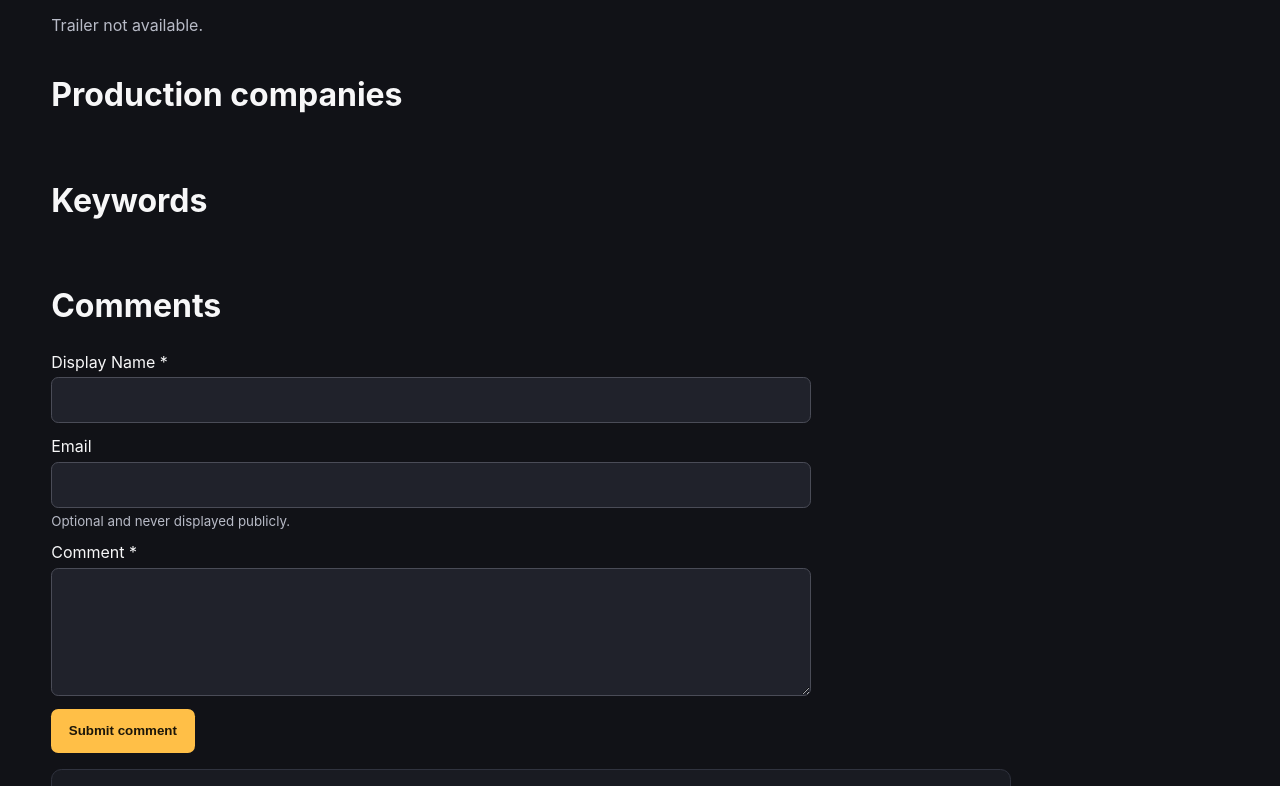
Test case: shows a clean no-trailer state and treats submitted comment HTML as text
(page scrolled)
expect the text "Trailer not available." is shown: met, box x1=51 y1=15 x2=203 y2=35
Type "Viewer" into the field labelled "Display Name *" at (431, 400), box x1=51 y1=377 x2=811 y2=423
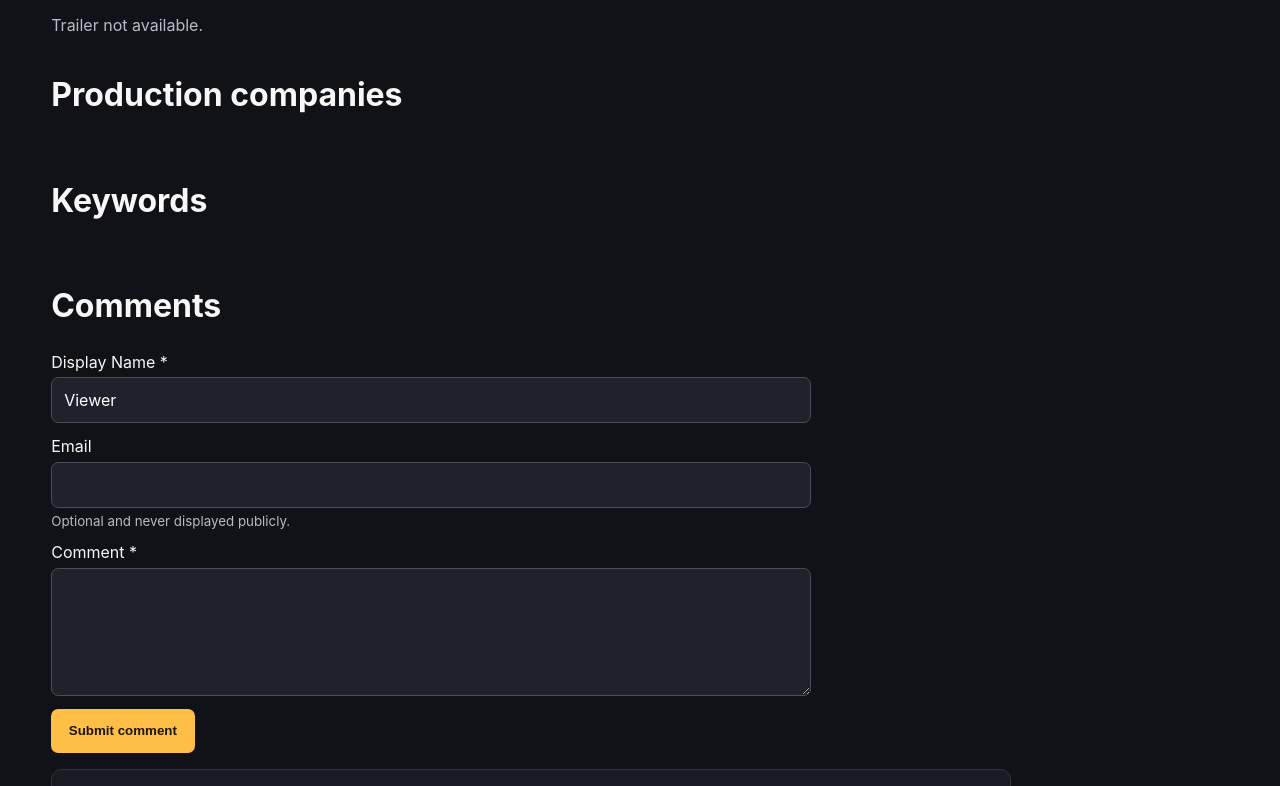
Type "Loved it" into the text box labelled "Comment *" at (431, 632), box x1=51 y1=568 x2=811 y2=696
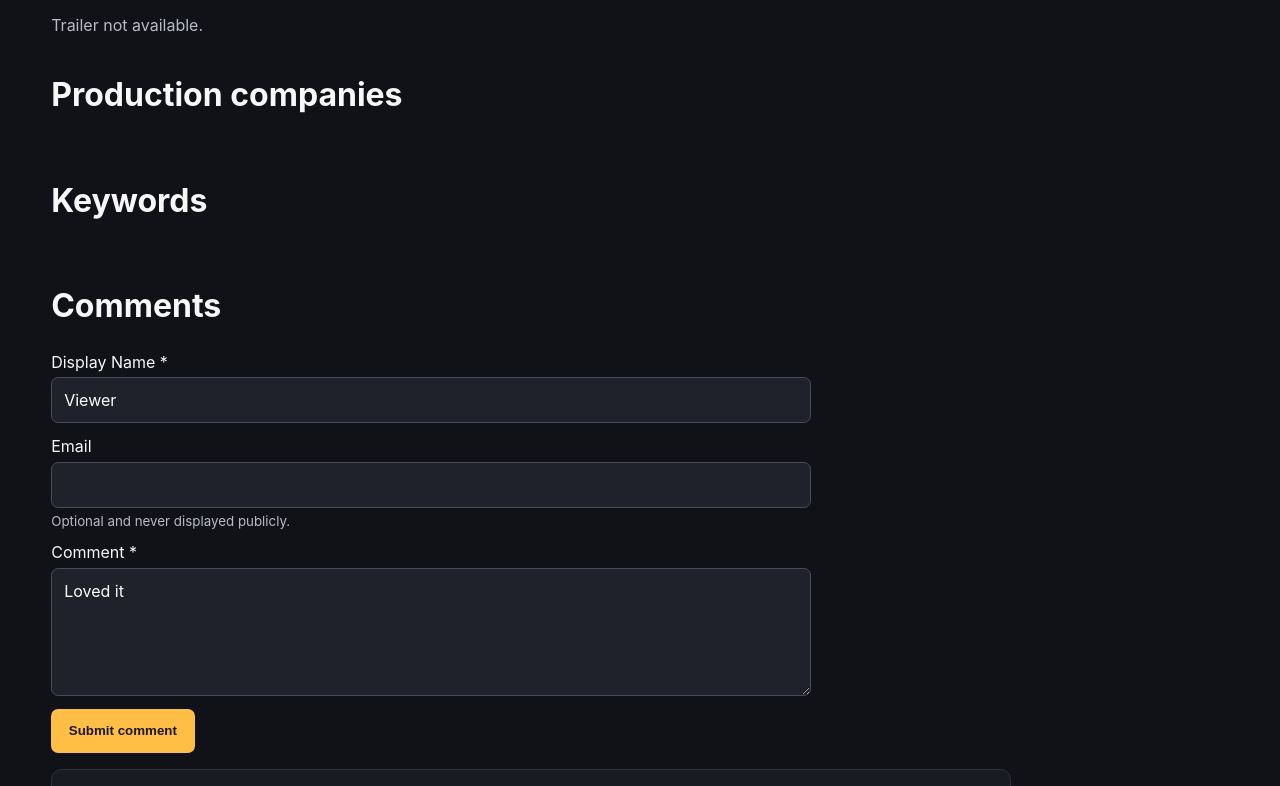
Click the button "Submit comment" at (123, 730), box x1=51 y1=708 x2=194 y2=752
(page scrolled)
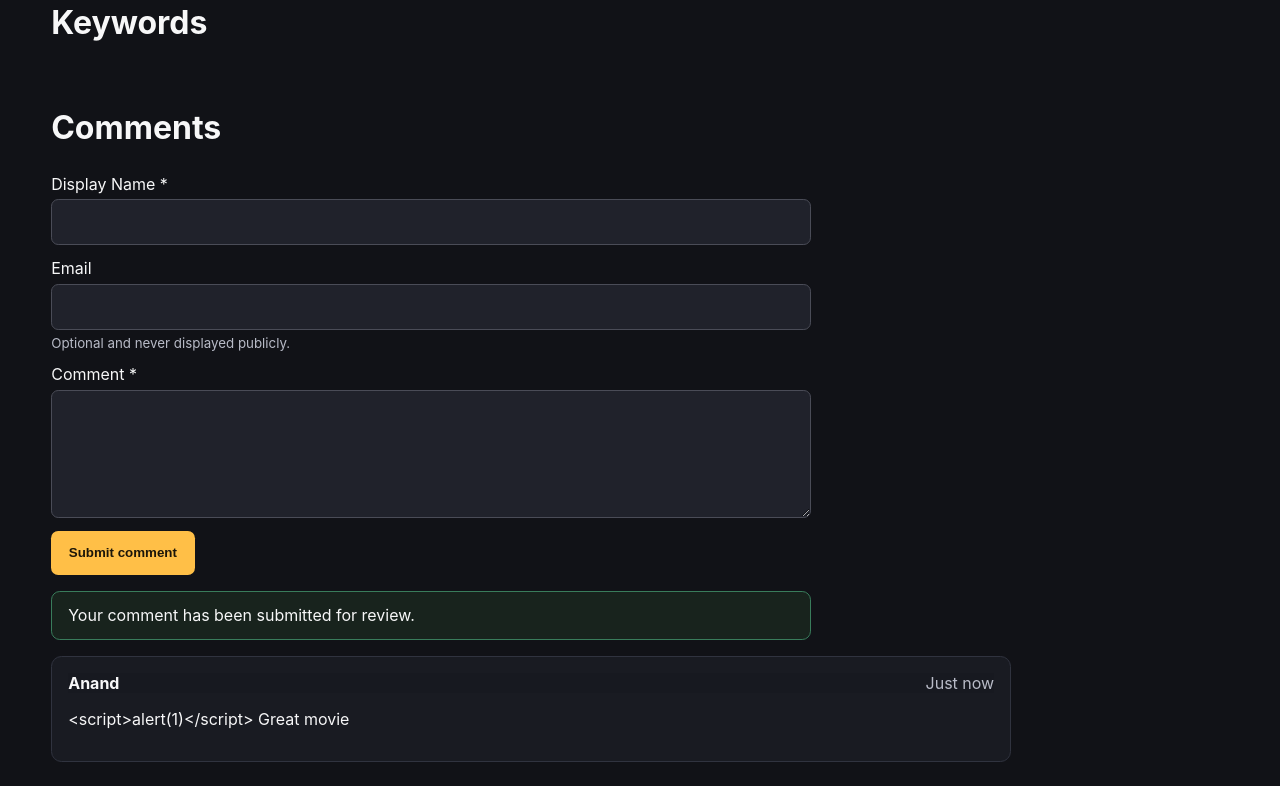
expect the text "Your comment has been submitted for review." is shown: met, box x1=51 y1=590 x2=811 y2=640
